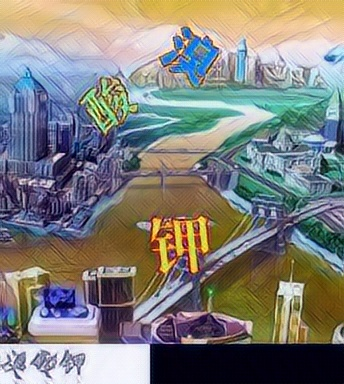BCD8: (146, 213, 211, 277)
CBE1: (79, 69, 144, 133)
E4E5: (158, 21, 223, 85)
